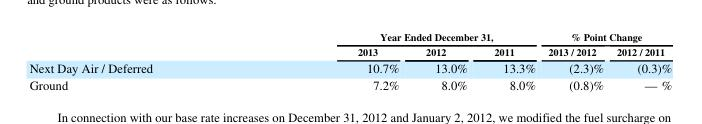table: (28, 29, 671, 92)
table column: (28, 29, 254, 92), (254, 29, 411, 92), (411, 29, 480, 92), (541, 29, 609, 92), (609, 29, 671, 92), (480, 29, 541, 92)
table column header: (28, 29, 671, 58)
table row: (28, 58, 671, 75), (28, 75, 671, 92), (28, 43, 671, 58), (28, 29, 671, 43)
table spanning cell: (254, 29, 541, 43), (541, 29, 671, 43)
